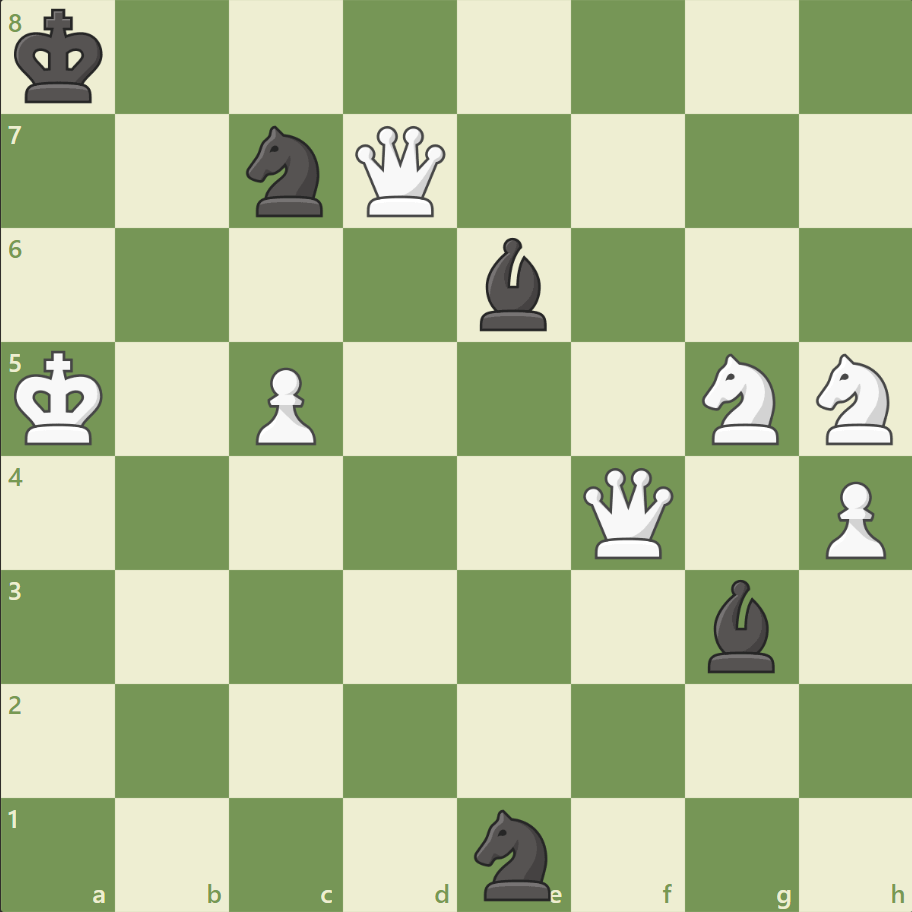K: (11, 344, 111, 452)
N: (692, 348, 789, 450), (806, 348, 903, 450)
P: (247, 359, 322, 450), (815, 473, 889, 564)
Q: (351, 122, 450, 222), (578, 463, 677, 562)
b: (471, 233, 555, 336), (698, 574, 782, 676)
k: (11, 4, 111, 112)
n: (238, 121, 335, 223), (465, 802, 562, 904)
